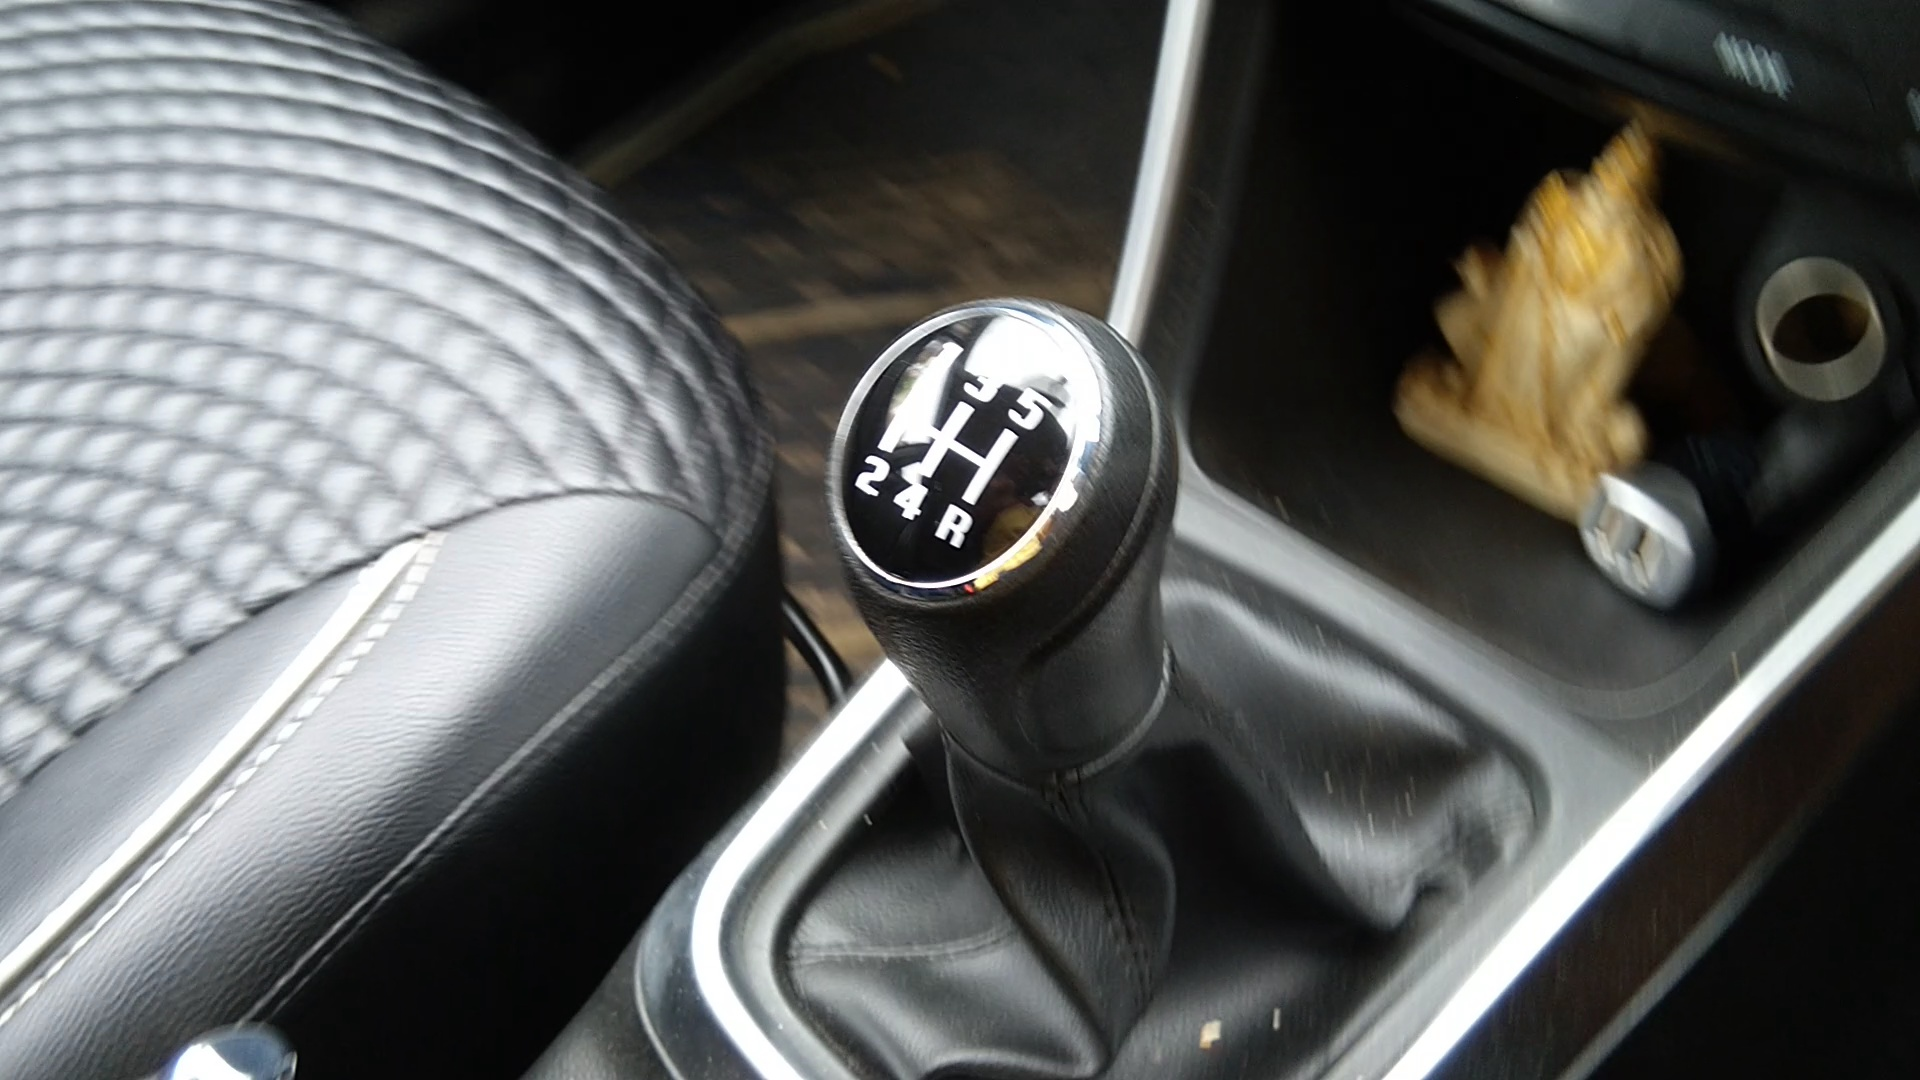manual_gear: (814, 287, 1193, 818)
